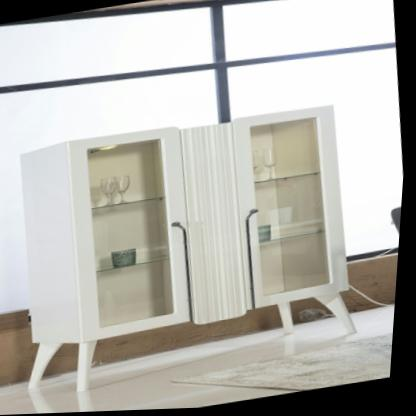Cupboard: (9, 99, 368, 399)
